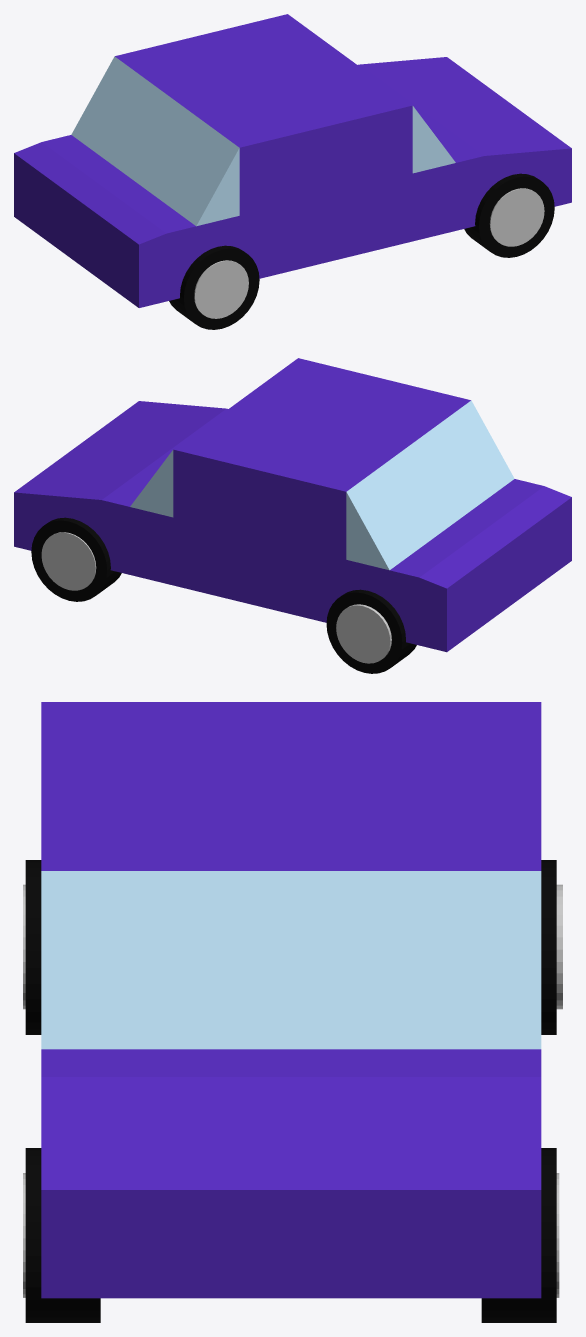
File: car.obj
3 renders of one model, top to bottom at view 1: azimuth 30°, elevation 25°; view 2: azimuth 150°, elevation 25°; view 3: azimuth 270°, elevation 25°, orthographic. The views are drawn at different scales.
Visible parts, largest first — view 1: MainCar_Cube, Roof_Cube.001, BackWindow_Cube.003, FrontWheel1_Cylinder, BackWheel1_Cylinder.003, FrontWheel2.003_Cylinder.006, FrontWheel2.002_Cylinder.005, FrontWindow_Cube.002; view 2: MainCar_Cube, Roof_Cube.001, BackWindow_Cube.003, FrontWheel2.001_Cylinder.004, BackWheel2_Cylinder.002, FrontWheel2.004_Cylinder.007, FrontWheel2_Cylinder.001, FrontWindow_Cube.002; view 3: MainCar_Cube, FrontWindow_Cube.002, Roof_Cube.001, FrontWheel1_Cylinder, FrontWheel2.001_Cylinder.004, BackWheel1_Cylinder.003, BackWheel2_Cylinder.002, FrontWheel2.004_Cylinder.007.
Boxes of the visible parts, x1,y1,x2,y2 form: MainCar_Cube: (14,57,571,307); Roof_Cube.001: (115,14,412,215); BackWindow_Cube.003: (71,56,239,226); FrontWheel1_Cylinder: (464,173,554,257); BackWheel1_Cylinder.003: (169,245,259,329); FrontWheel2.003_Cylinder.006: (194,260,248,318); FrontWheel2.002_Cylinder.005: (489,188,544,246); FrontWindow_Cube.002: (412,106,455,173); MainCar_Cube: (14,401,571,652); Roof_Cube.001: (173,358,470,559); BackWindow_Cube.003: (346,400,514,570); FrontWheel2.001_Cylinder.004: (31,517,121,601); BackWheel2_Cylinder.002: (326,589,416,673); FrontWheel2.004_Cylinder.007: (336,604,391,663); FrontWheel2_Cylinder.001: (41,532,96,590); FrontWindow_Cube.002: (130,450,173,517); MainCar_Cube: (41,1049,541,1298); FrontWindow_Cube.002: (41,871,541,1049); Roof_Cube.001: (41,702,541,870); FrontWheel1_Cylinder: (25,1148,100,1322); FrontWheel2.001_Cylinder.004: (481,1148,556,1322); BackWheel1_Cylinder.003: (25,860,41,1034); BackWheel2_Cylinder.002: (541,860,556,1034); FrontWheel2.004_Cylinder.007: (556,884,562,1009).
Bounding box in the file's own units: 4 × 1.53 × 2.16.
